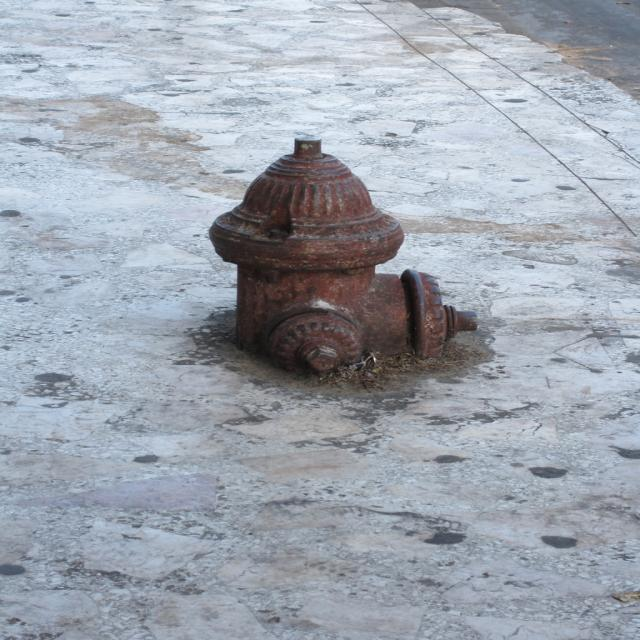fire_hydrant: (208, 137, 480, 370)
